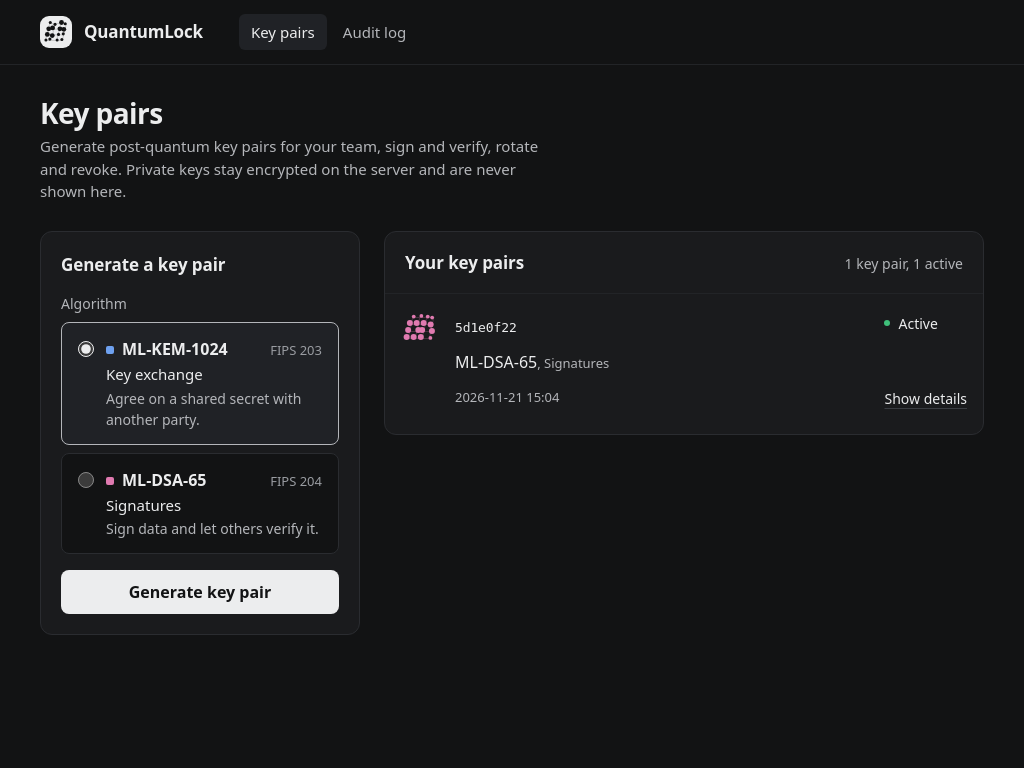
Test: sign and verify › explains an API refusal
Expected: the table is shown, [385,293,983,434]
Click the button with aria-label "Show details of 5d1e0f22".
click(926, 398)  # box [884,376,967,420]
(page scrolled)
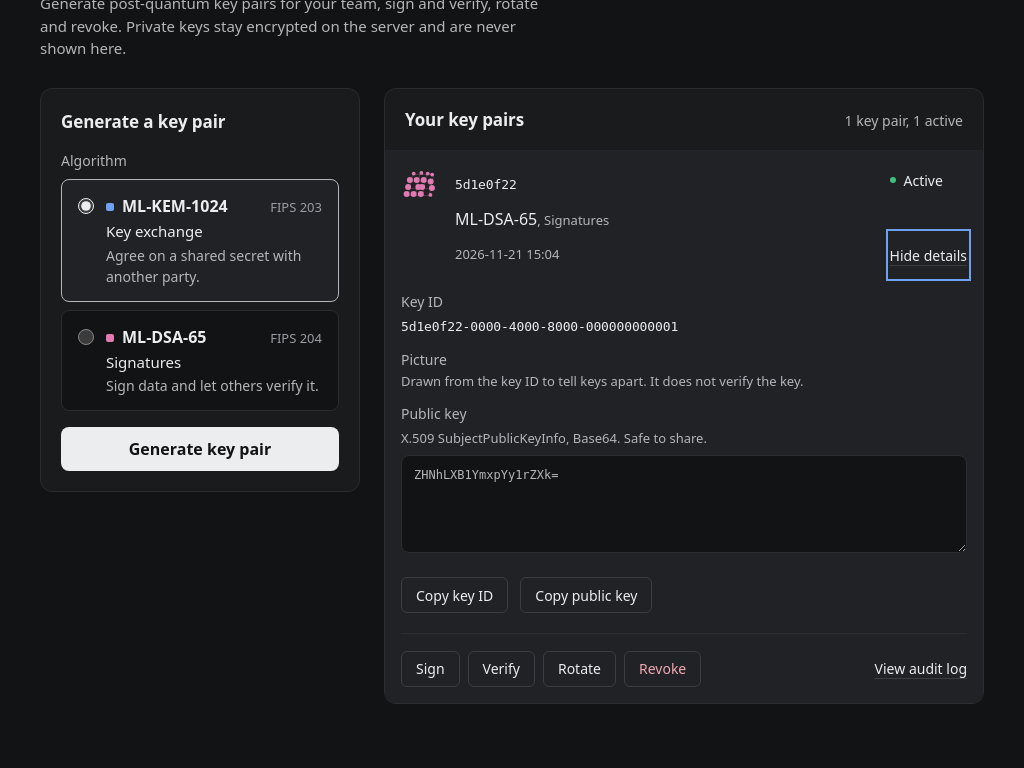
Click the button "Sign".
click(430, 669)  # box [401,651,460,687]
(page scrolled)
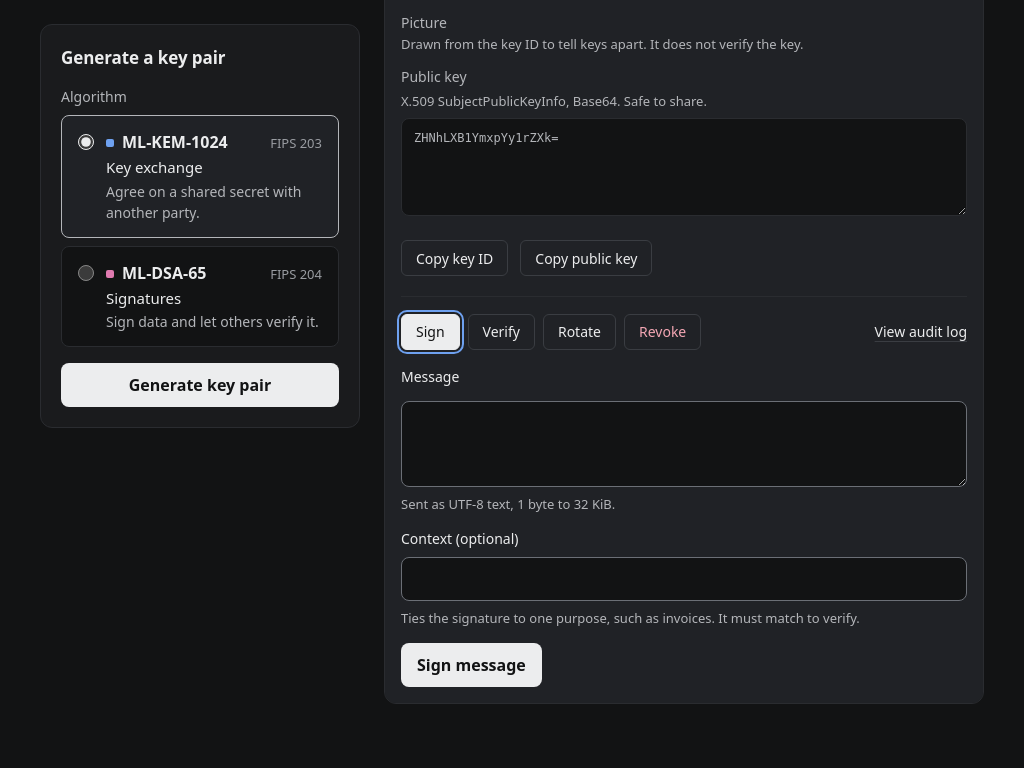
Type "hello" into the text box labelled "Message".
click(684, 444); type("hello")  # box [401,401,967,487]
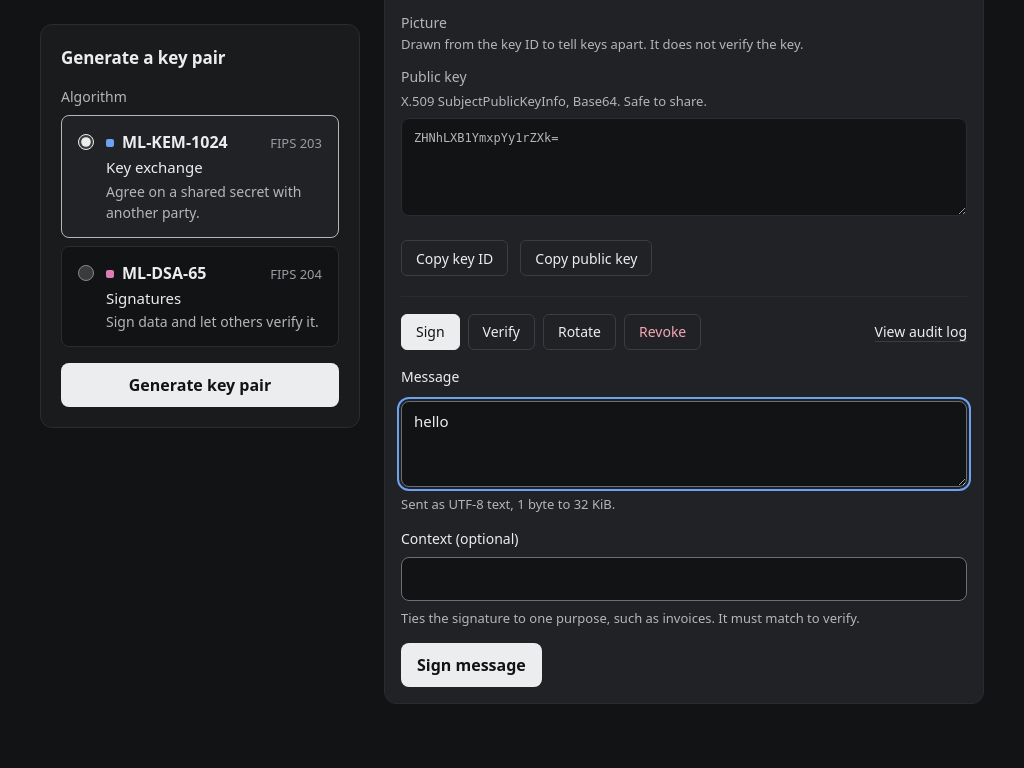
Click the button "Sign message".
click(471, 665)  # box [401,643,542,687]
(page scrolled)
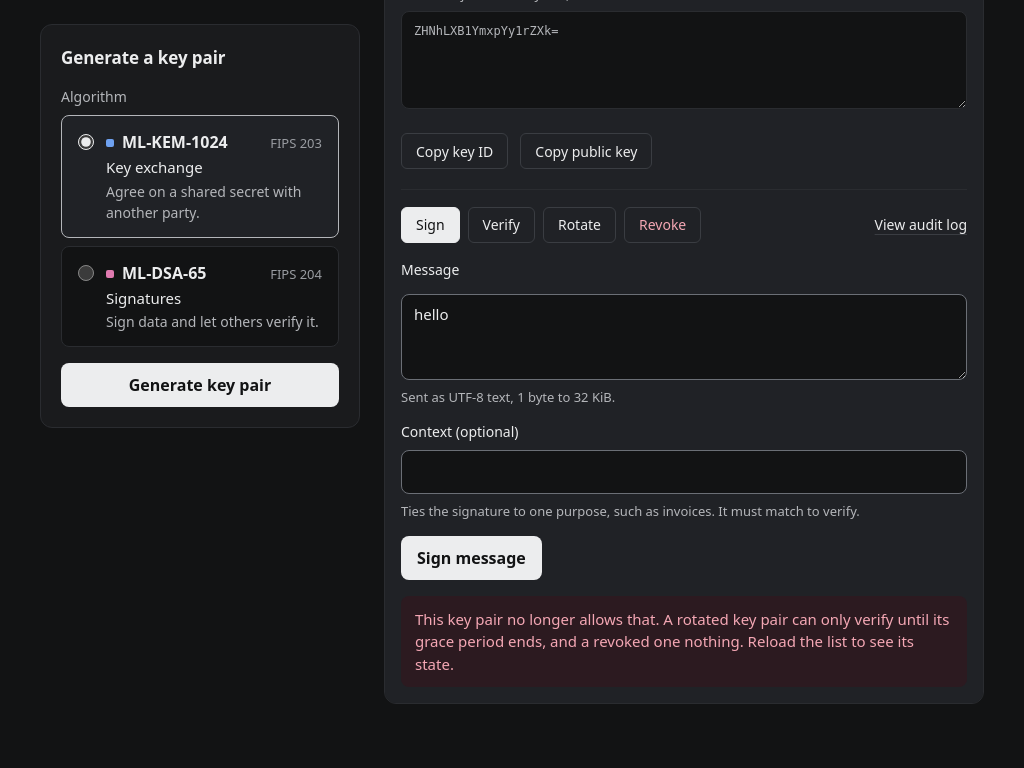
Result: the message shows "no longer allows that" at [415,609,950,674]
